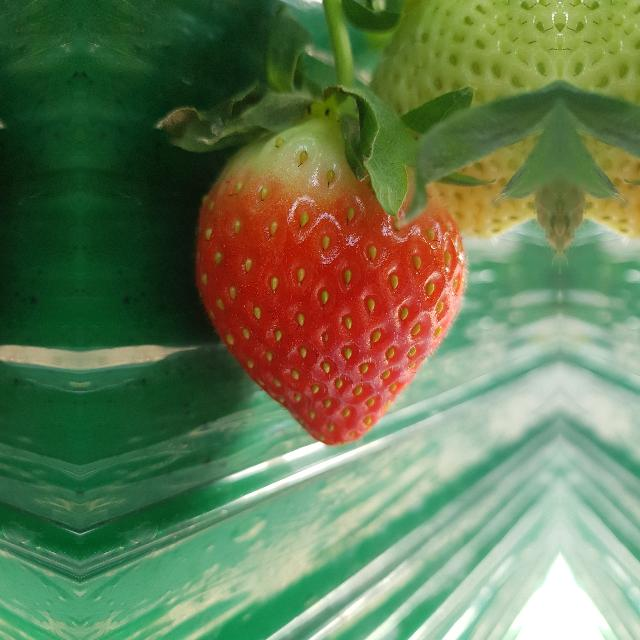Health_75: (192, 122, 466, 444)
